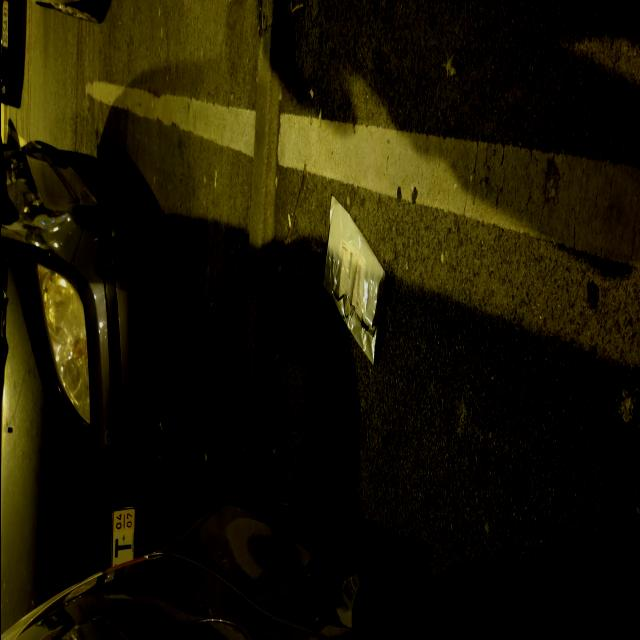Other plastic: (322, 196, 384, 365)
